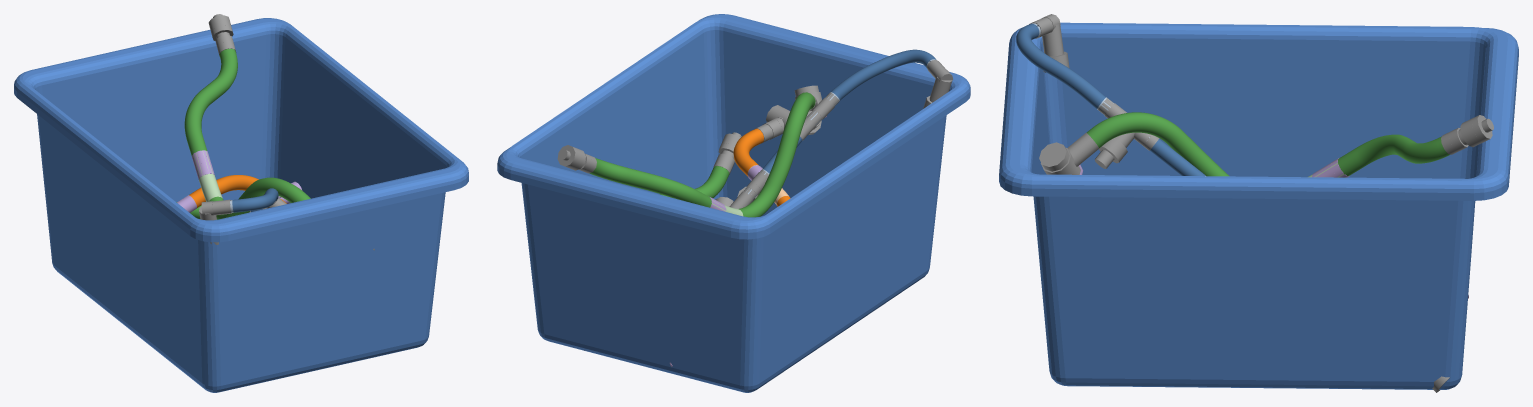
The picture shows the model from 3 angles, left to right: view 1: azimuth 30°, elevation 25°; view 2: azimuth 150°, elevation 25°; view 3: azimuth 270°, elevation 25°; orthographic projection. The views are drawn at different scales.
Parts seen in each view (by area): view 1: bin, tube_0_Y, tube_1_AB, tube_4_X; view 2: bin, tube_0_Y, tube_1_AB, tube_5_X, tube_2_Y; view 3: bin, tube_0_Y, tube_1_AB.
Part boxes in pixels (left/top/right/bottom): bin: left=14, top=18, right=468, bottom=392; tube_0_Y: left=184, top=14, right=310, bottom=219; tube_1_AB: left=199, top=188, right=286, bottom=244; tube_4_X: left=177, top=175, right=302, bottom=212; bin: left=497, top=14, right=970, bottom=392; tube_0_Y: left=557, top=85, right=826, bottom=217; tube_1_AB: left=729, top=49, right=952, bottom=208; tube_5_X: left=584, top=105, right=790, bottom=350; tube_2_Y: left=660, top=132, right=741, bottom=366; bin: left=999, top=22, right=1518, bottom=389; tube_0_Y: left=1039, top=112, right=1493, bottom=177; tube_1_AB: left=1016, top=14, right=1449, bottom=392.
Bounding box in the file's own units: 0.3034 × 0.219 × 0.4039.
